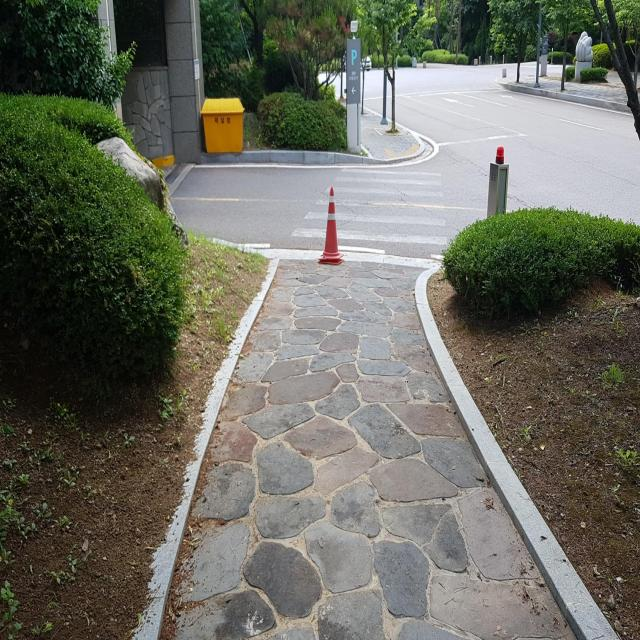횡단보도: (290, 167, 448, 246)
